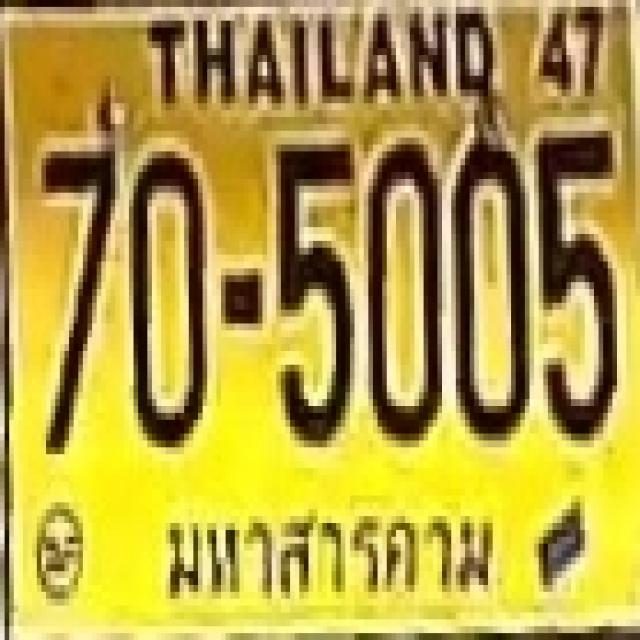0: (129, 144, 203, 440), (451, 138, 525, 434), (364, 141, 437, 437)
5: (534, 127, 612, 437), (274, 137, 352, 440)
7: (39, 144, 113, 448), (39, 145, 113, 344)
MKM: (160, 499, 500, 609)
